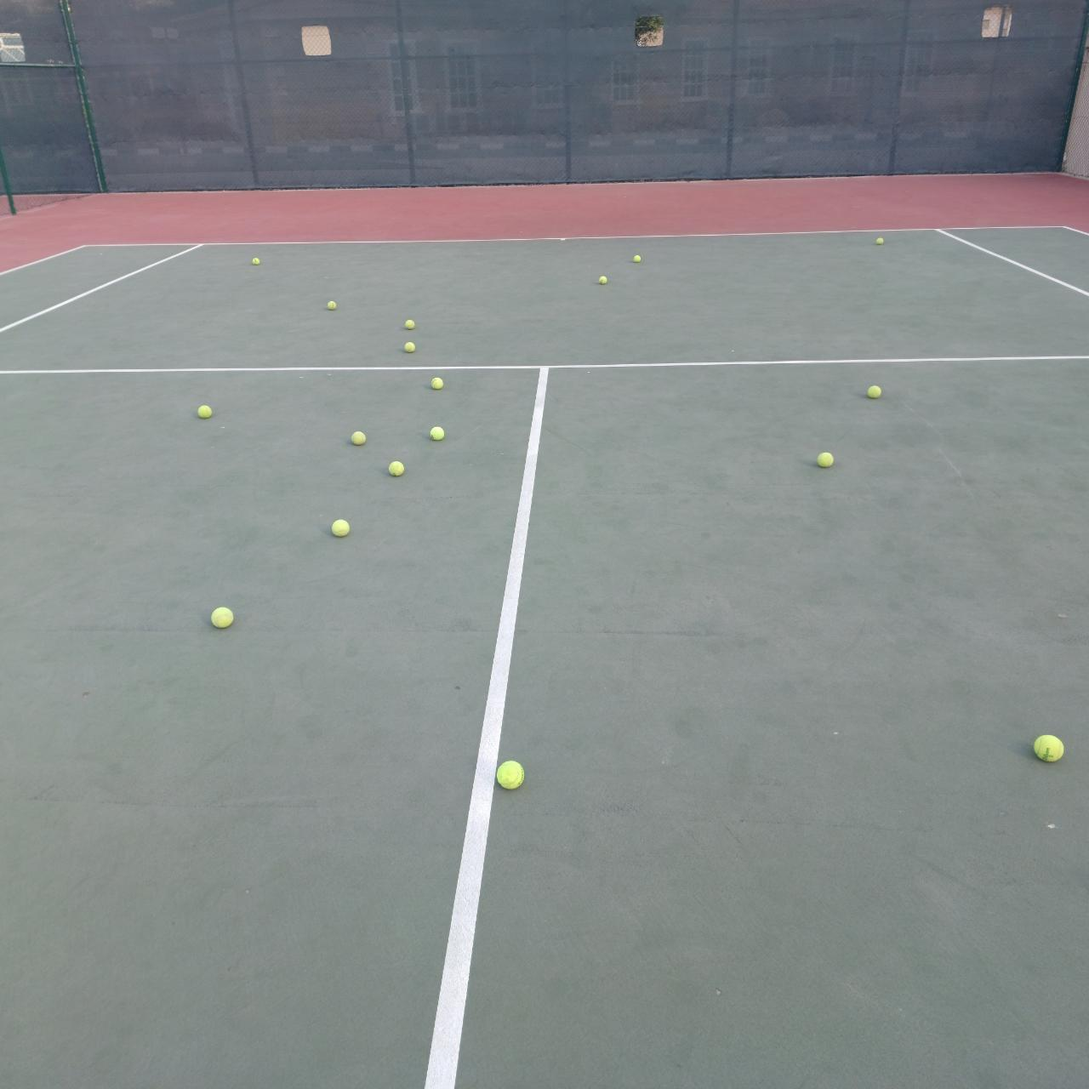tennis-ball: (494, 757, 525, 790), (1032, 732, 1064, 762), (209, 604, 234, 629), (332, 518, 350, 537), (817, 452, 834, 468), (388, 461, 404, 477), (197, 404, 212, 419), (430, 426, 444, 441), (351, 431, 366, 445), (868, 385, 881, 398), (431, 376, 444, 389), (403, 341, 416, 352), (327, 300, 337, 311), (405, 320, 415, 330), (599, 276, 607, 285), (633, 255, 641, 263), (876, 237, 884, 245), (252, 258, 260, 265)
